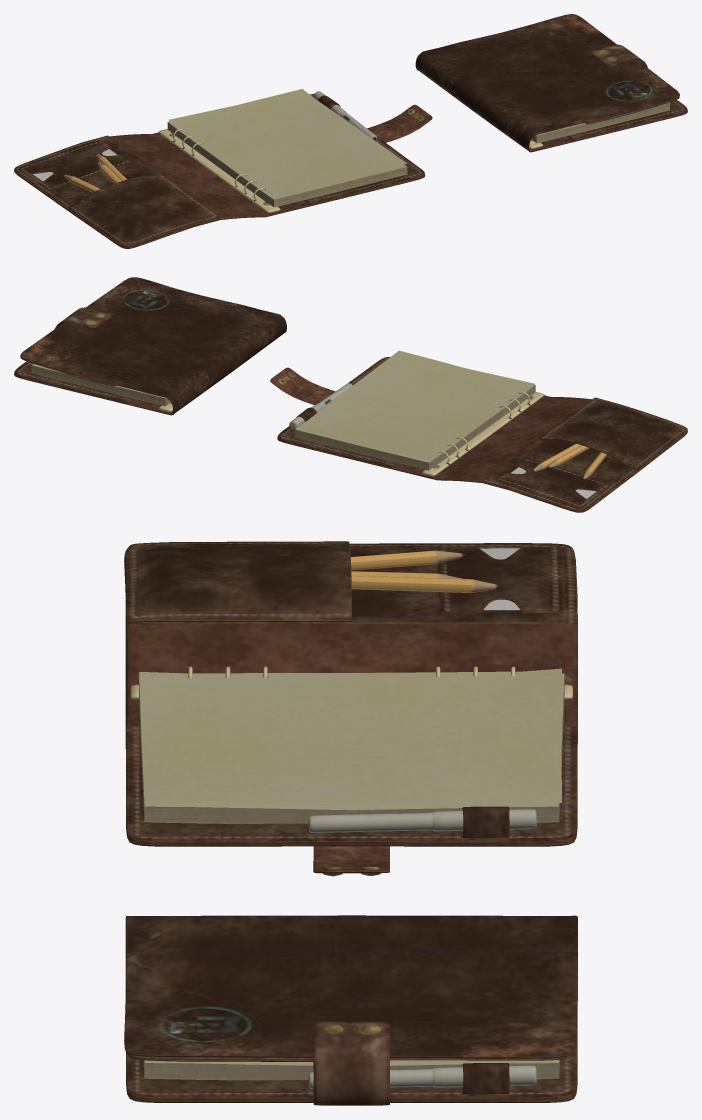
File: binder_notebook.glb
3 renders of one model, top to bottom at view 1: azimuth 30°, elevation 25°; view 2: azimuth 150°, elevation 25°; view 3: azimuth 270°, elevation 25°, orthographic. The views are drawn at different scales.
Visible parts, largest first — view 1: binder_notebook, binder_notebook_closed; view 2: binder_notebook, binder_notebook_closed; view 3: binder_notebook, binder_notebook_closed.
Part boxes in pixels (left/top/right/bottom): binder_notebook: left=14, top=89, right=432, bottom=248; binder_notebook_closed: left=415, top=14, right=687, bottom=152; binder_notebook: left=270, top=350, right=687, bottom=512; binder_notebook_closed: left=14, top=277, right=286, bottom=415; binder_notebook: left=124, top=541, right=577, bottom=876; binder_notebook_closed: left=124, top=915, right=577, bottom=1105.
Bounding box in the file's own units: 0.584 × 0.0253 × 0.2.
1 material, 1 textured.
